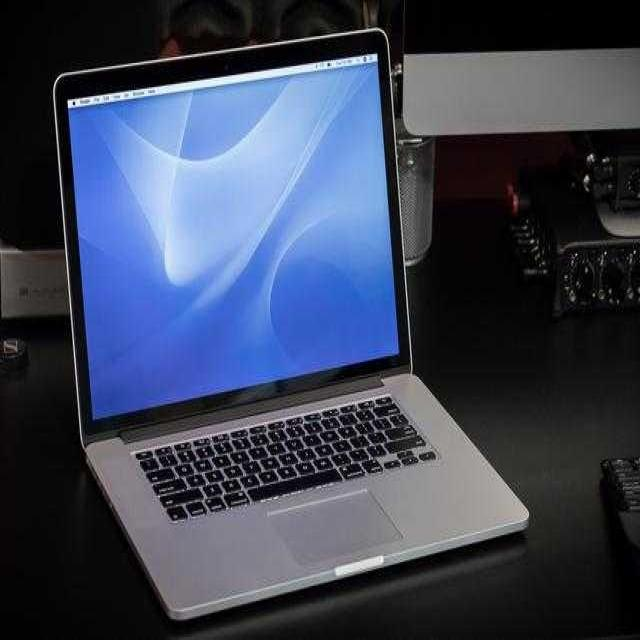laptop: (47, 12, 556, 629)
